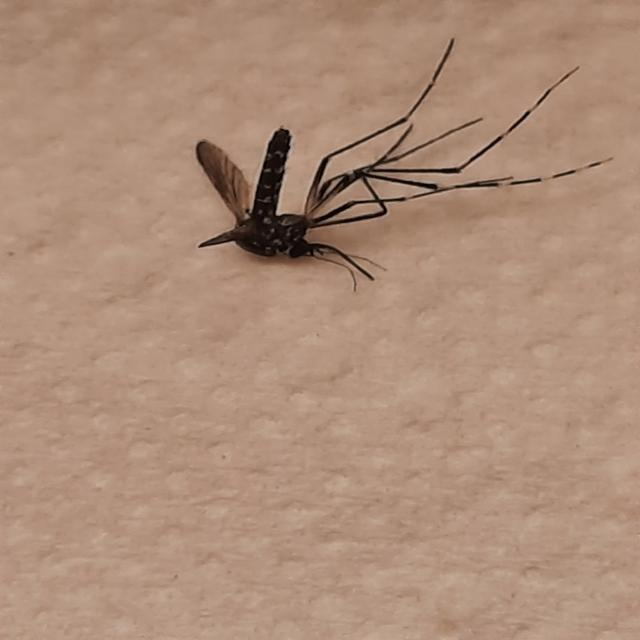albopictus: (170, 27, 602, 310)
